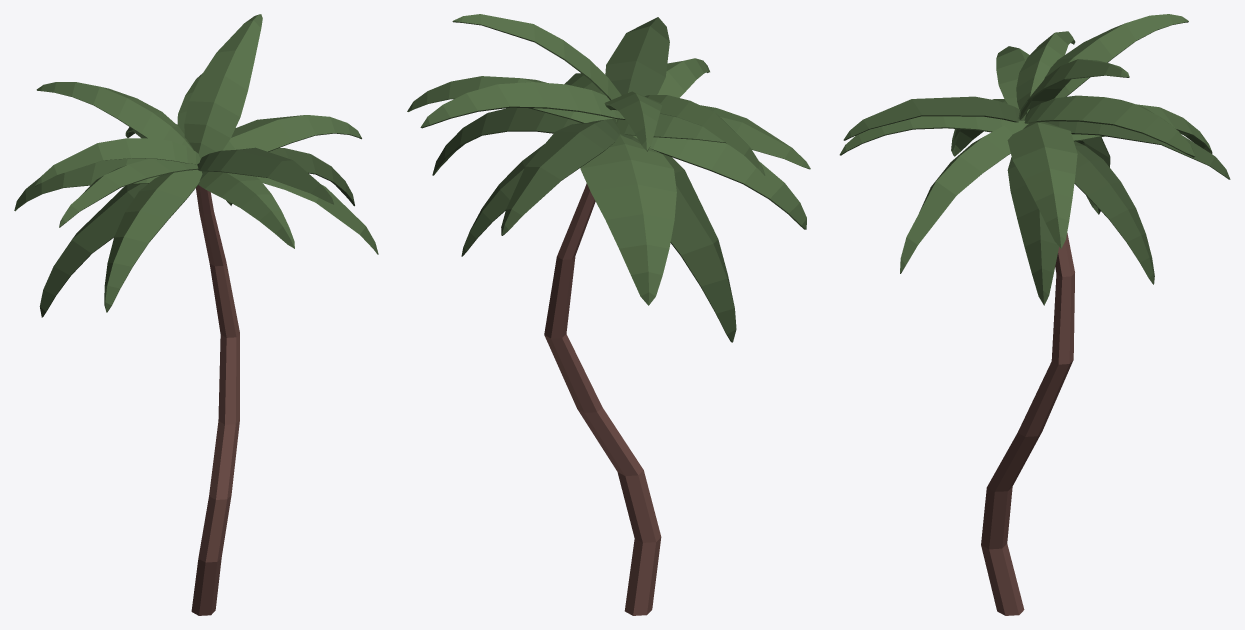
File: palmtree_1.014_lev1.glb
3 views of the same model, side by side, from view 1: azimuth 30°, elevation 25°; view 2: azimuth 150°, elevation 25°; view 3: azimuth 270°, elevation 25° (orthographic). The views are drawn at different scales.
Parts seen in each view (by area): view 1: palmtree_1.014_lev1; view 2: palmtree_1.014_lev1; view 3: palmtree_1.014_lev1.
Boxes of the visible parts, left/top/right/bottom form: palmtree_1.014_lev1: left=14, top=14, right=378, bottom=615; palmtree_1.014_lev1: left=407, top=14, right=810, bottom=615; palmtree_1.014_lev1: left=839, top=14, right=1230, bottom=615.
Size of the model in its own units: 2.88 by 4.47 by 2.65.
